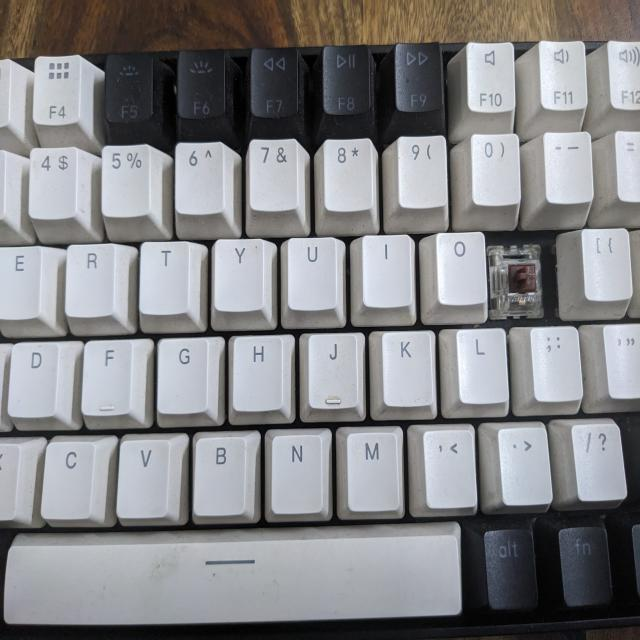C: (490, 246, 550, 320)
